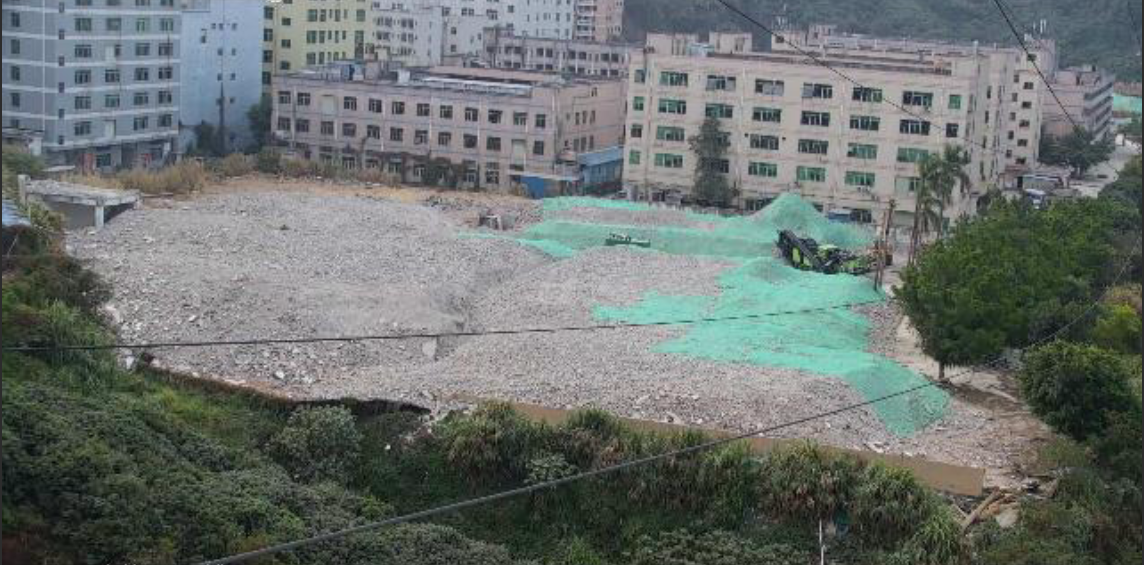绿膜: (585, 272, 957, 440), (523, 216, 777, 255), (733, 189, 878, 250), (541, 194, 740, 224), (686, 253, 802, 278), (457, 232, 523, 247), (1110, 91, 1142, 112), (549, 254, 573, 261)
